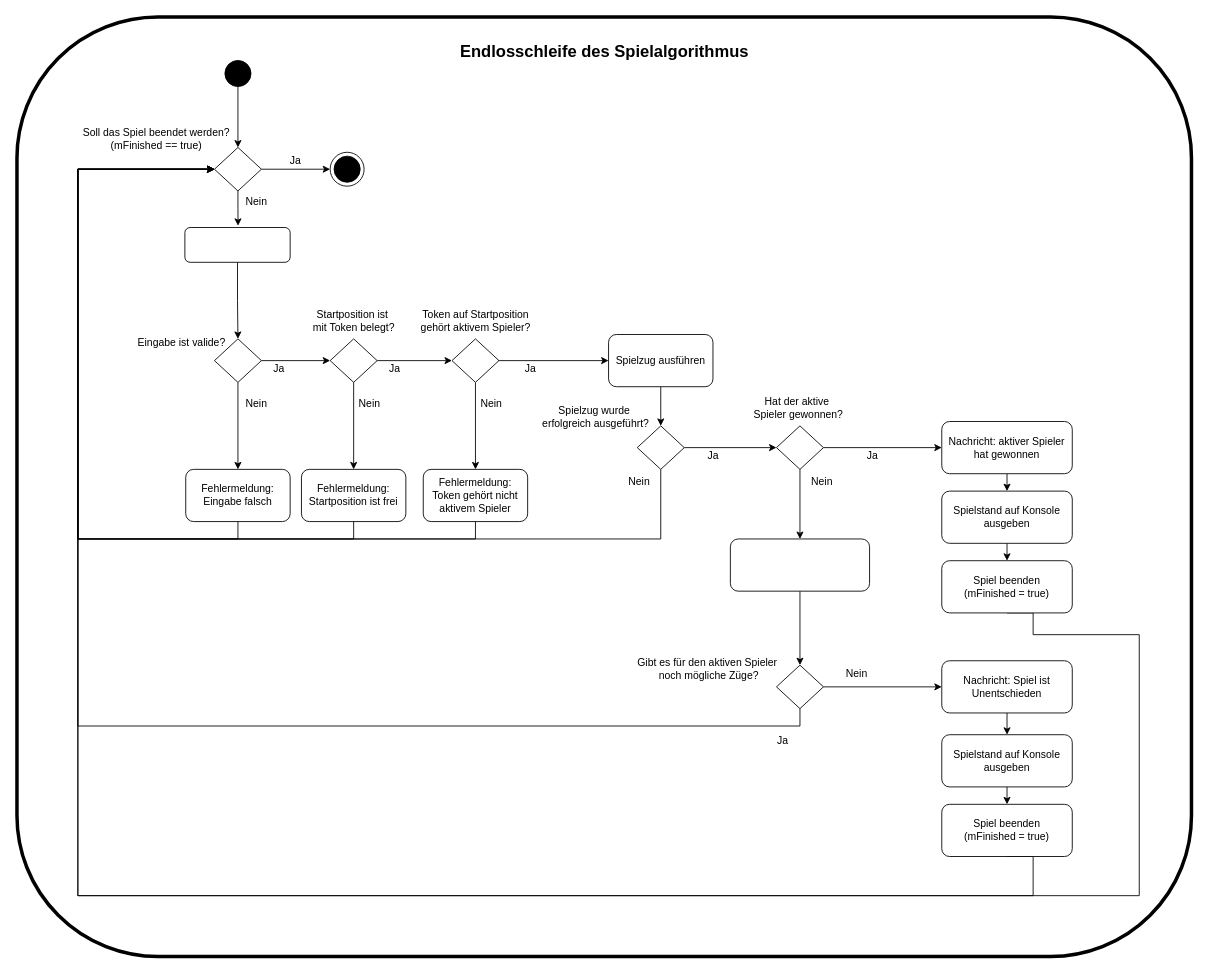
Some shapes in this 1208 by 973 pixel diagram are drawn without their labels. The shapes that lost their labels are listed below. From the top down, each one's box as (x1, y1, x2, y2) in pixels, then its label:
(184, 227, 290, 262): Benutzerobefläche ausgeben
(729, 538, 870, 591): anderen Spieler als aktiven Spieler setzen
